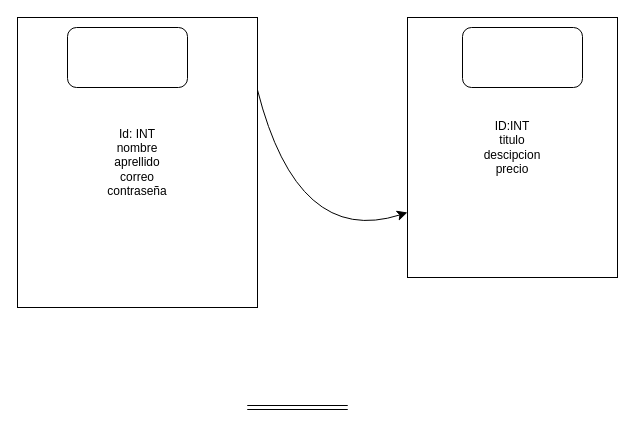
Image size: 635x427. Some labels were removed from this diagram. The shapes that lost their labels are listed below. From the top down, each one's centre as x and y in pixels, then its label:
At point 127,57: "usuarios".
At point 522,57: "Productos".
